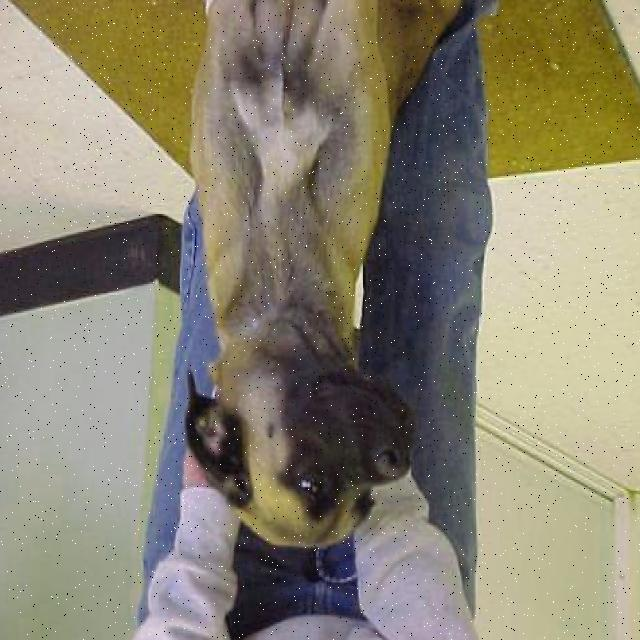Dog: (179, 309, 418, 570)
